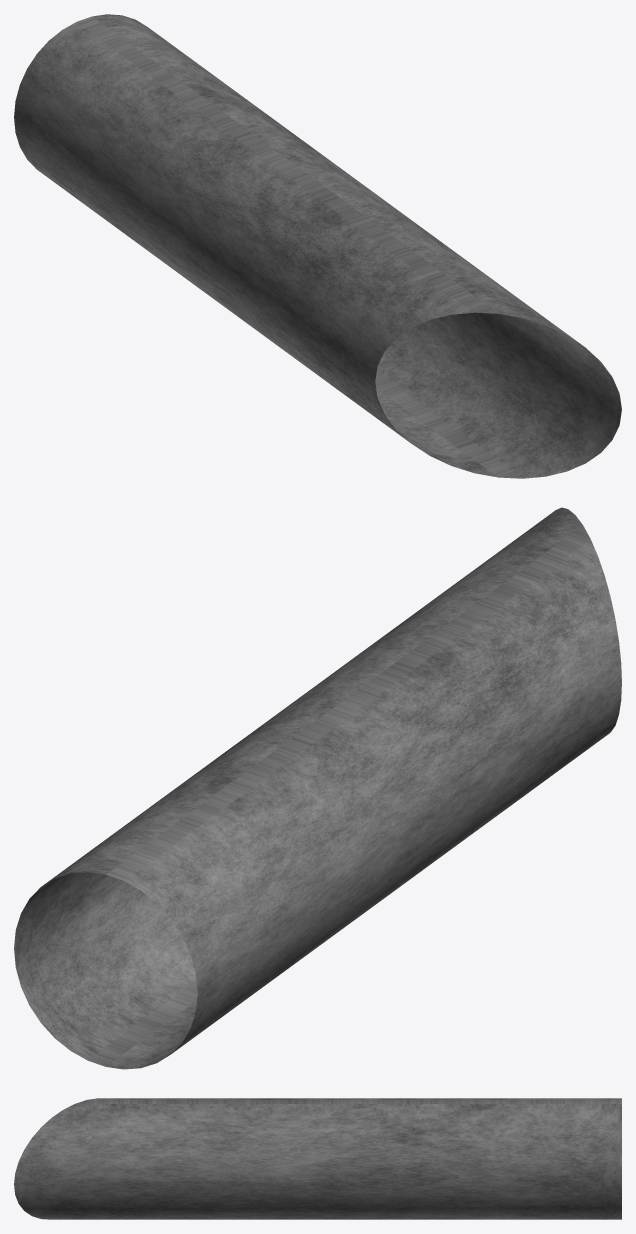
The model's file is frame_straight_cut.fbx.
The picture shows the model from 3 angles, top to bottom: view 1: azimuth 30°, elevation 25°; view 2: azimuth 150°, elevation 25°; view 3: azimuth 270°, elevation 25°; orthographic projection. The views are drawn at different scales.
Visible parts, largest first — view 1: Frame_Cut_Straight; view 2: Frame_Cut_Straight; view 3: Frame_Cut_Straight.
Part boxes in pixels (bbox=[...]): Frame_Cut_Straight: bbox=[14, 14, 621, 478]; Frame_Cut_Straight: bbox=[14, 507, 621, 1069]; Frame_Cut_Straight: bbox=[14, 1098, 621, 1219].
Bounding box in the file's own units: 5 × 5 × 25.
1 material, 1 textured.
